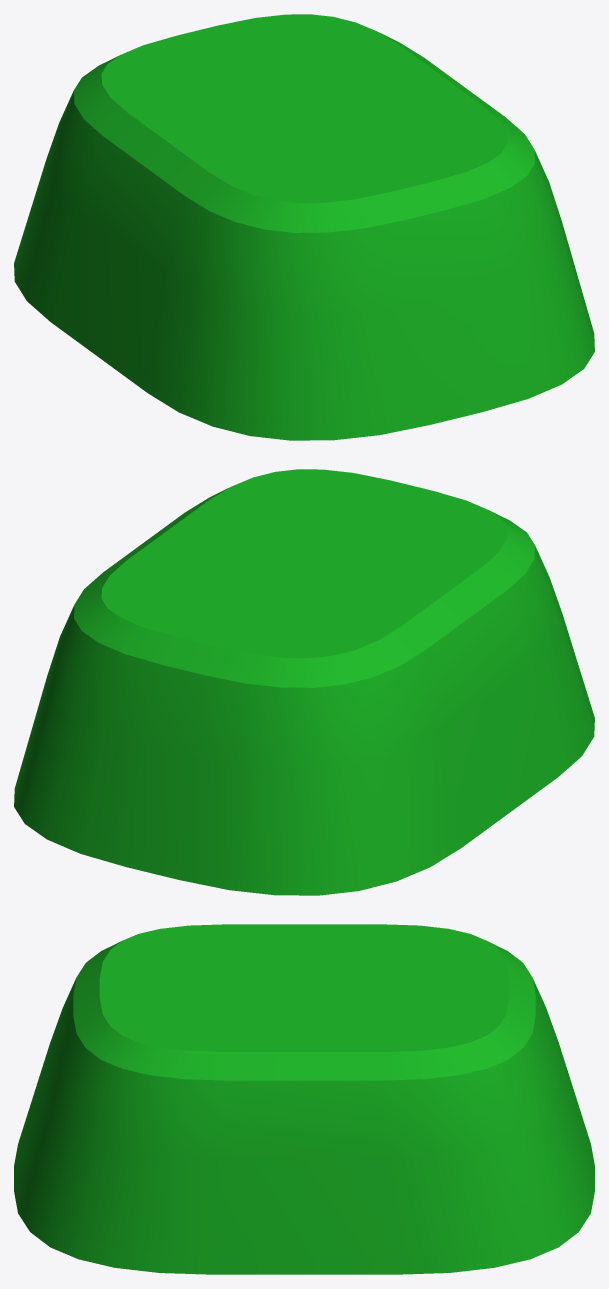
Rendered from Obstaculo2.FBX.
3 renders of one model, top to bottom at view 1: azimuth 30°, elevation 25°; view 2: azimuth 150°, elevation 25°; view 3: azimuth 270°, elevation 25°, orthographic. The views are drawn at different scales.
Parts seen in each view (by area): view 1: Obstaculo2; view 2: Obstaculo2; view 3: Obstaculo2.
Boxes of the visible parts, x1,y1,x2,y2 form: Obstaculo2: (14,14,594,440); Obstaculo2: (14,469,594,895); Obstaculo2: (14,924,594,1274).
Bounding box in the file's own units: 7.43 × 3.44 × 9.51.
